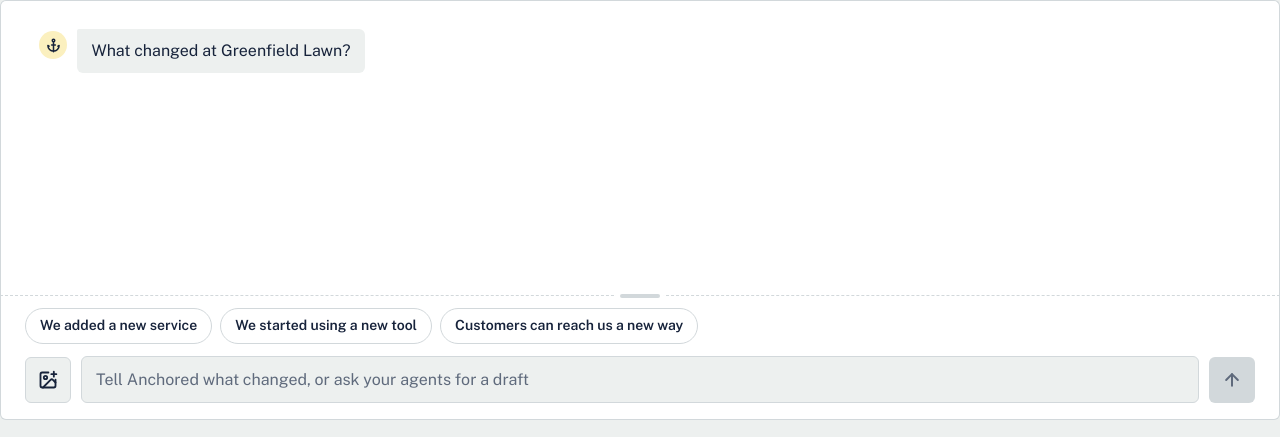
Test: ChatWindow, business mode › offers starter messages on a fresh chat and sends the one picked
Expected: the element showing "What changed at Greenfield Lawn?" is shown, [39,29,365,73]
Click the button "We added a new service".
click(119, 326)  # box [25,308,212,344]
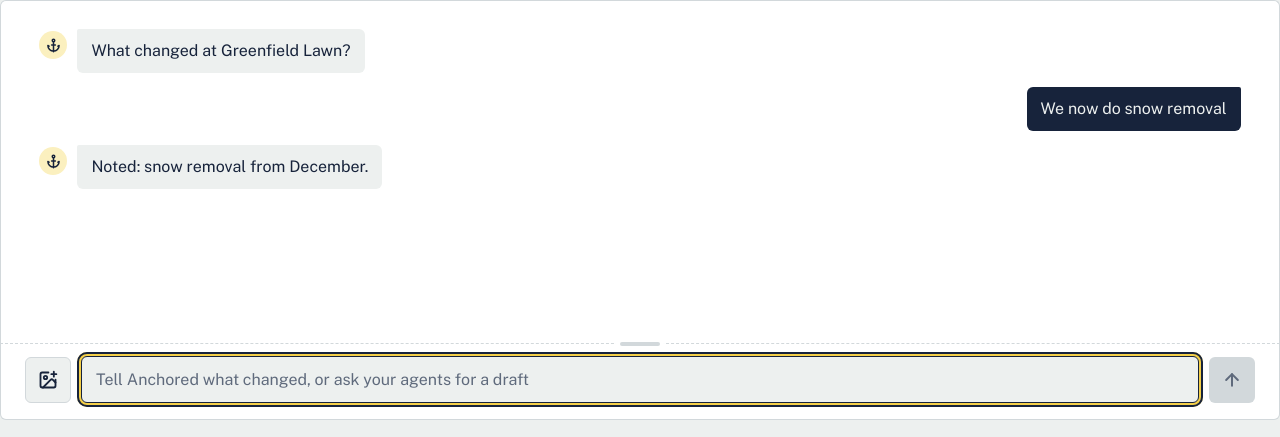
Now the element that starts with "What changed at Greenfield Lawn?" shows "Noted: snow removal from December.", box [91,157,368,176]
